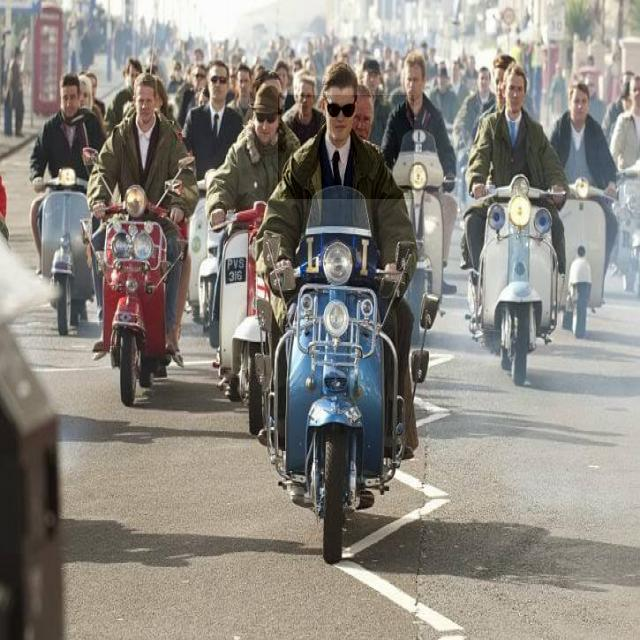No_Helmet: (278, 95, 414, 199)
